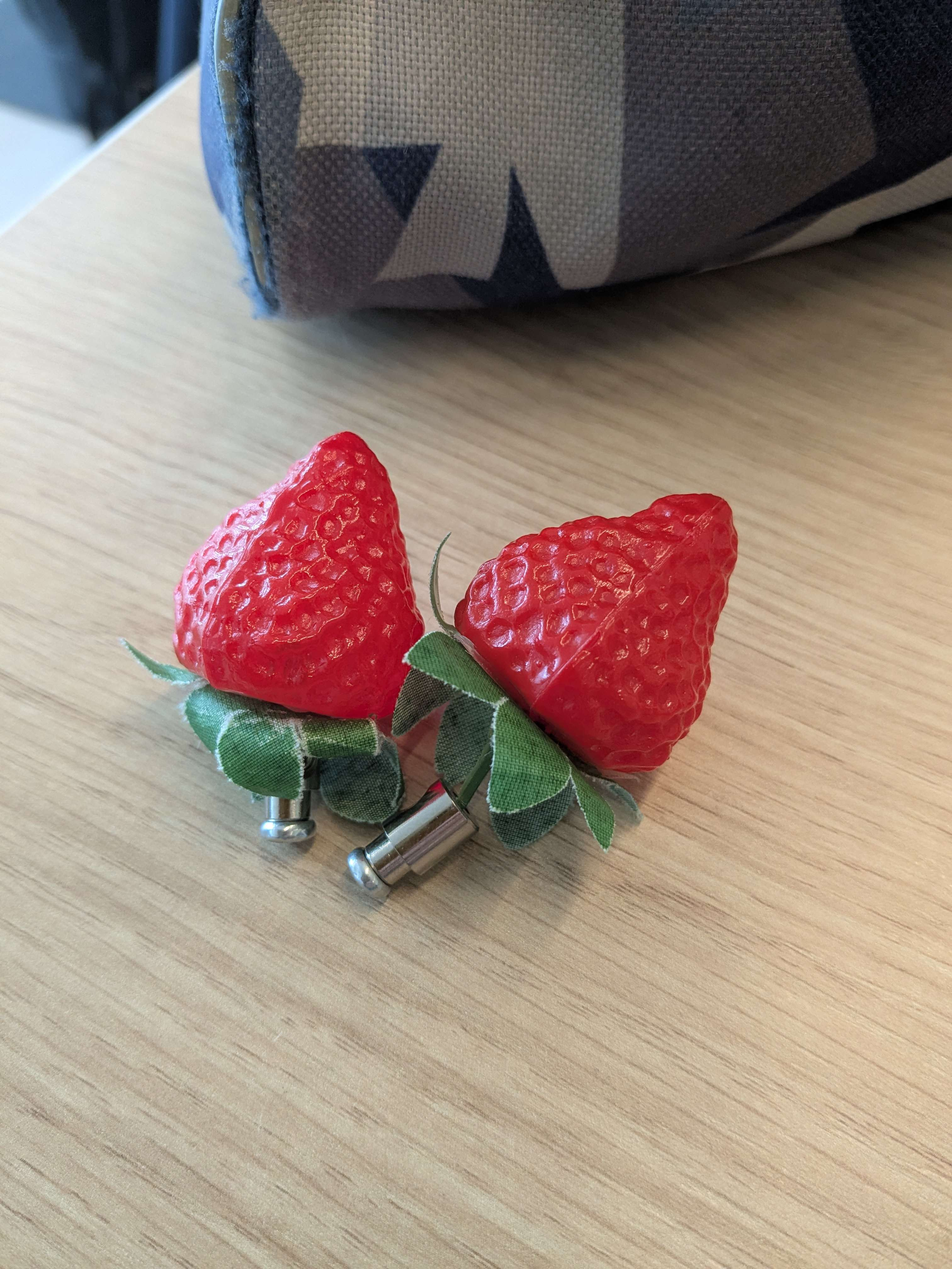Strawberry: (450, 484, 741, 784), (161, 424, 433, 728)
